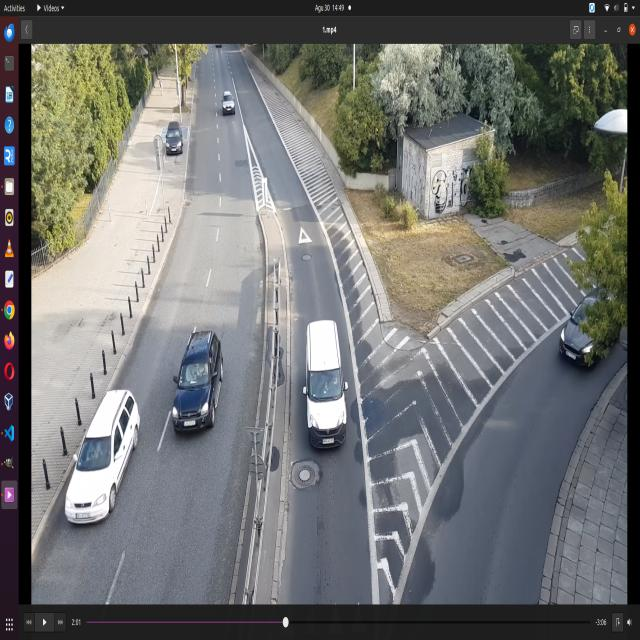person_with_seatbelt: (185, 367, 197, 382), (198, 364, 208, 380)
